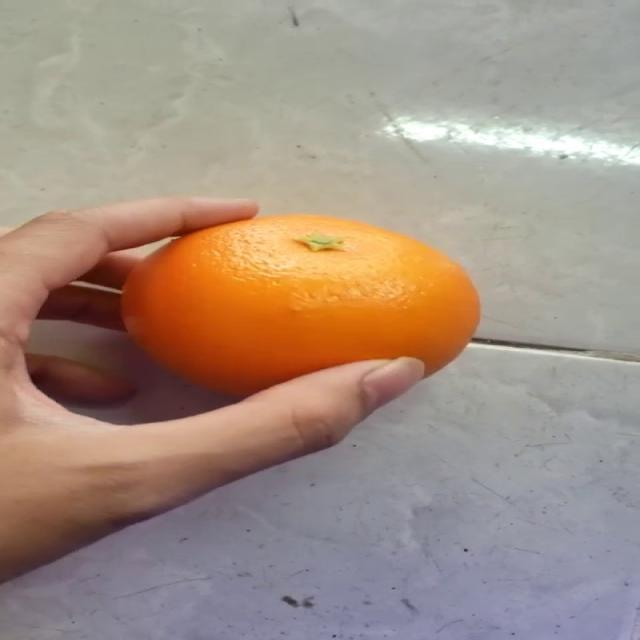Orange: (118, 211, 481, 397)
